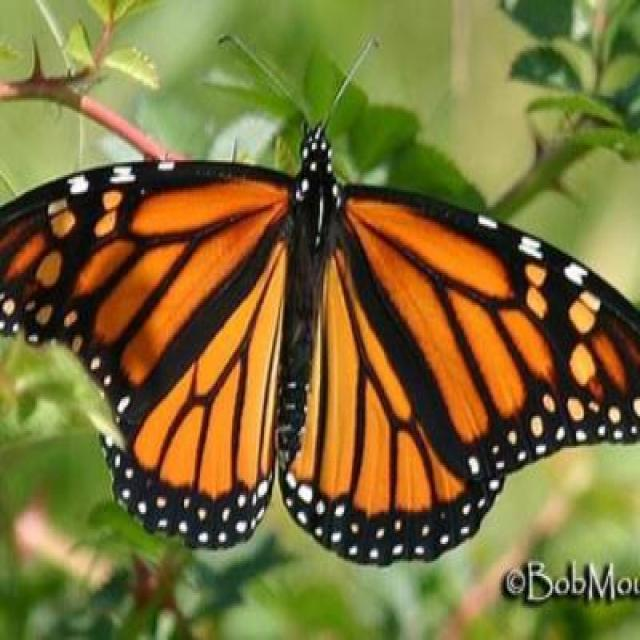antennae: (210, 33, 414, 130)
body: (276, 122, 336, 481)
insect: (1, 32, 640, 565)
wings: (283, 184, 640, 563), (4, 155, 298, 549)
